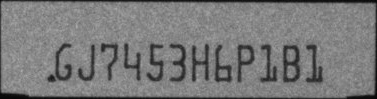1: (305, 42, 324, 83), (260, 42, 277, 81)
3: (169, 42, 185, 82)
4: (123, 42, 142, 81)
5: (145, 43, 164, 81)
6: (214, 43, 232, 82)
7: (100, 42, 118, 80)
B: (282, 43, 301, 83)
G: (54, 42, 71, 81)
H: (190, 41, 208, 81)
J: (76, 44, 95, 81)
P: (236, 43, 256, 84)
